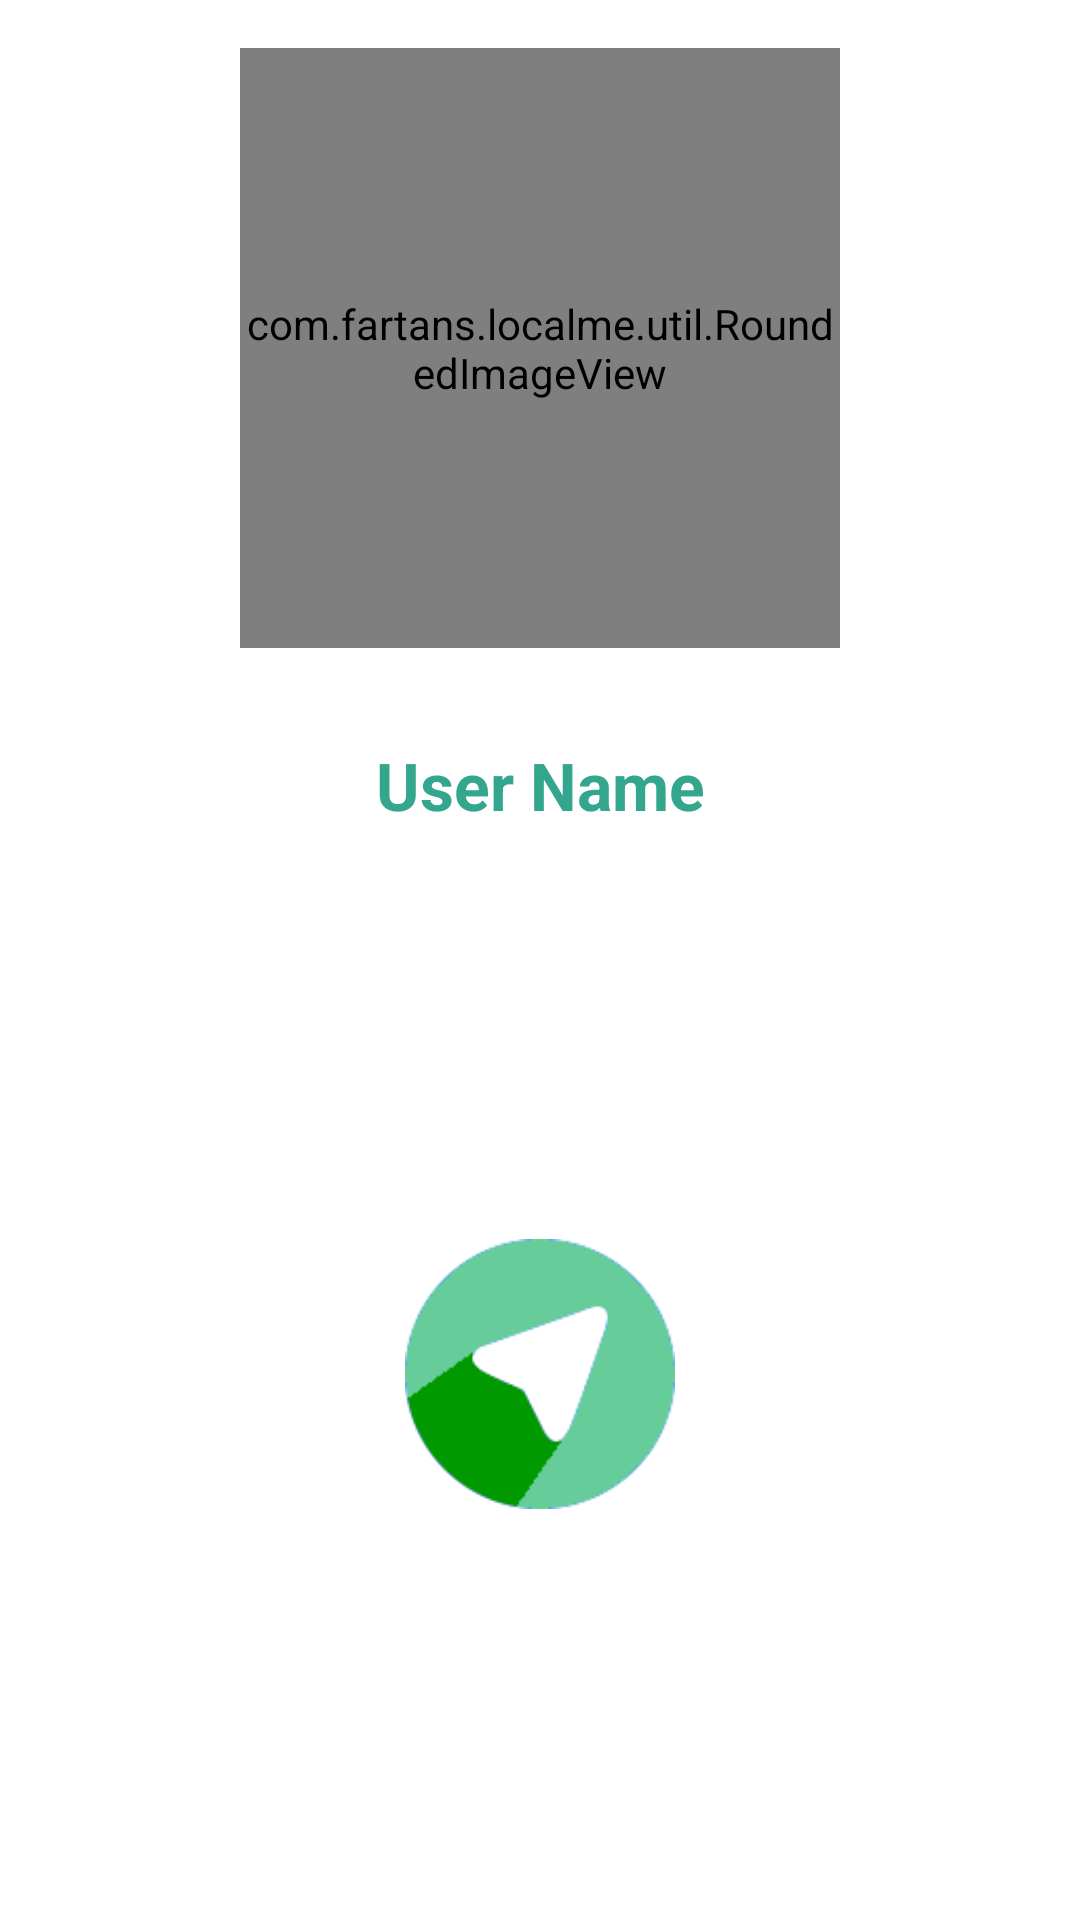

Point at icon controls on the screen. Image size 1080x1920, points as (x=x, y=y).
send: (x=540, y=1374)
